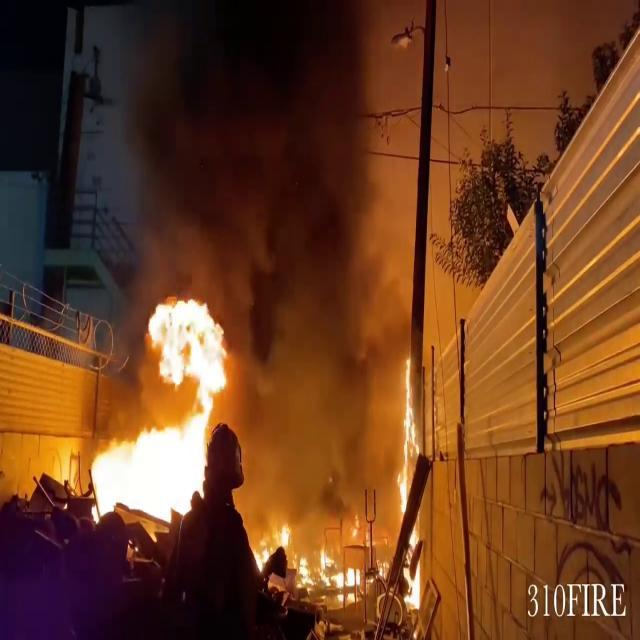Fire: (86, 292, 238, 525), (390, 358, 428, 618), (293, 535, 364, 602)
Smoke: (99, 1, 418, 458)
